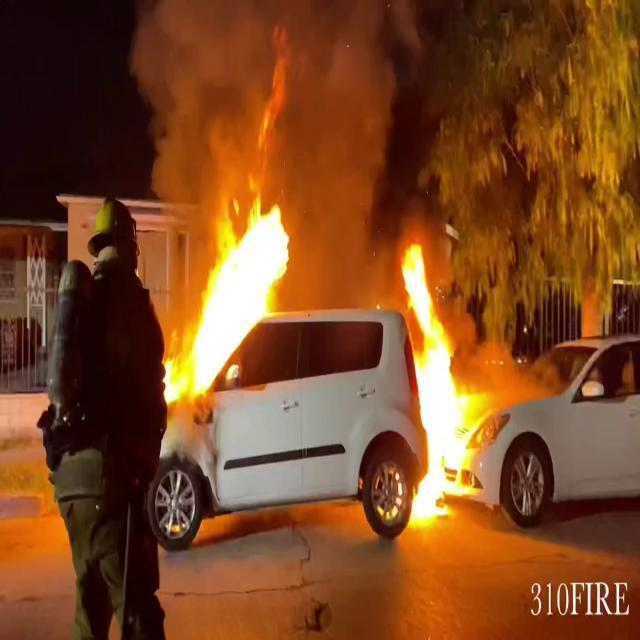Fire: (164, 188, 300, 407), (394, 237, 474, 527)
Smoke: (125, 0, 418, 239)
